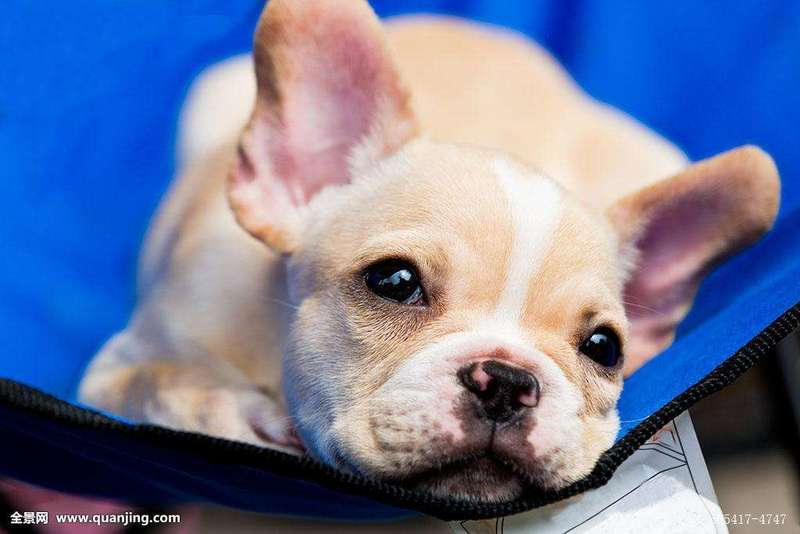dog: (273, 66, 793, 504)
